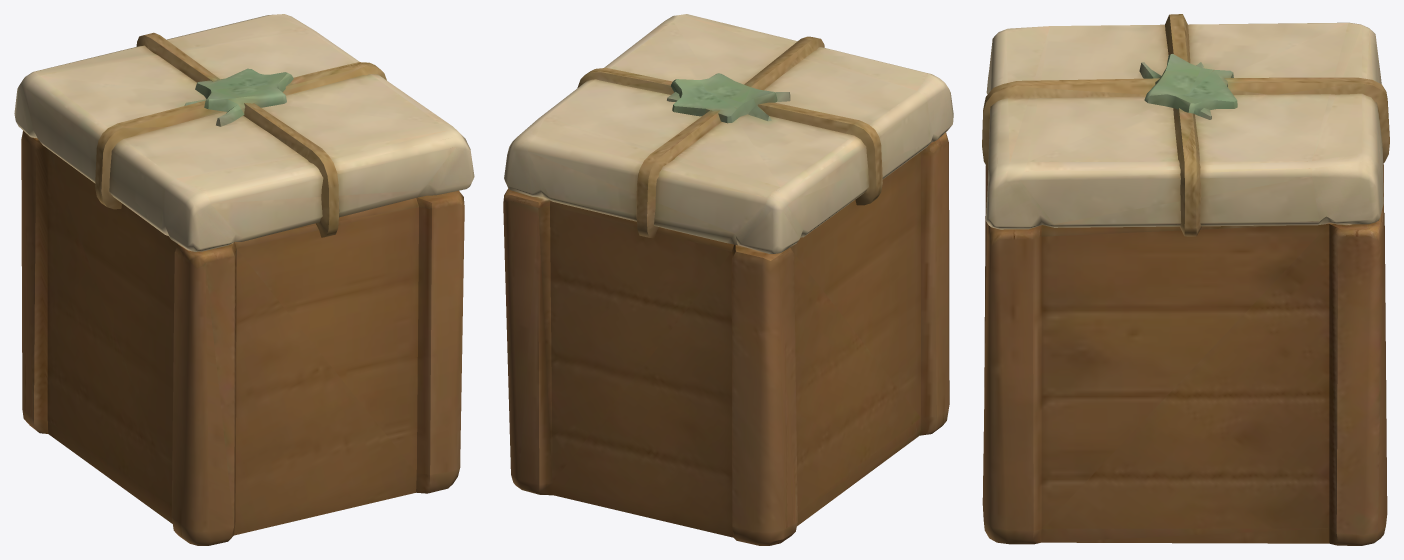
The model's file is supply_parcel.glb.
3 views of the same model, side by side, from view 1: azimuth 30°, elevation 25°; view 2: azimuth 150°, elevation 25°; view 3: azimuth 270°, elevation 25° (orthographic). The views are drawn at different scales.
Parts seen in each view (by area): view 1: tripo_node_6674c486-3ea1-4a1b-a230-9b96be2c22eb; view 2: tripo_node_6674c486-3ea1-4a1b-a230-9b96be2c22eb; view 3: tripo_node_6674c486-3ea1-4a1b-a230-9b96be2c22eb.
Part boxes in pixels (x1,y1,x2,y2): tripo_node_6674c486-3ea1-4a1b-a230-9b96be2c22eb: (14,14,474,545); tripo_node_6674c486-3ea1-4a1b-a230-9b96be2c22eb: (503,14,953,545); tripo_node_6674c486-3ea1-4a1b-a230-9b96be2c22eb: (982,14,1389,545).
Size of the model in its own units: 0.8389 by 1 by 0.9219.
1 material, 1 textured.
